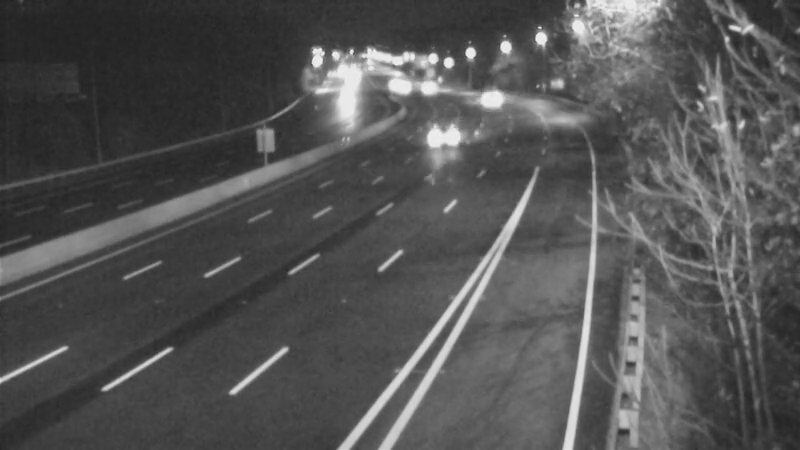vehicle: (371, 60, 421, 110), (394, 64, 444, 114), (380, 63, 430, 113), (460, 71, 510, 121), (423, 110, 473, 160), (320, 82, 370, 132)
